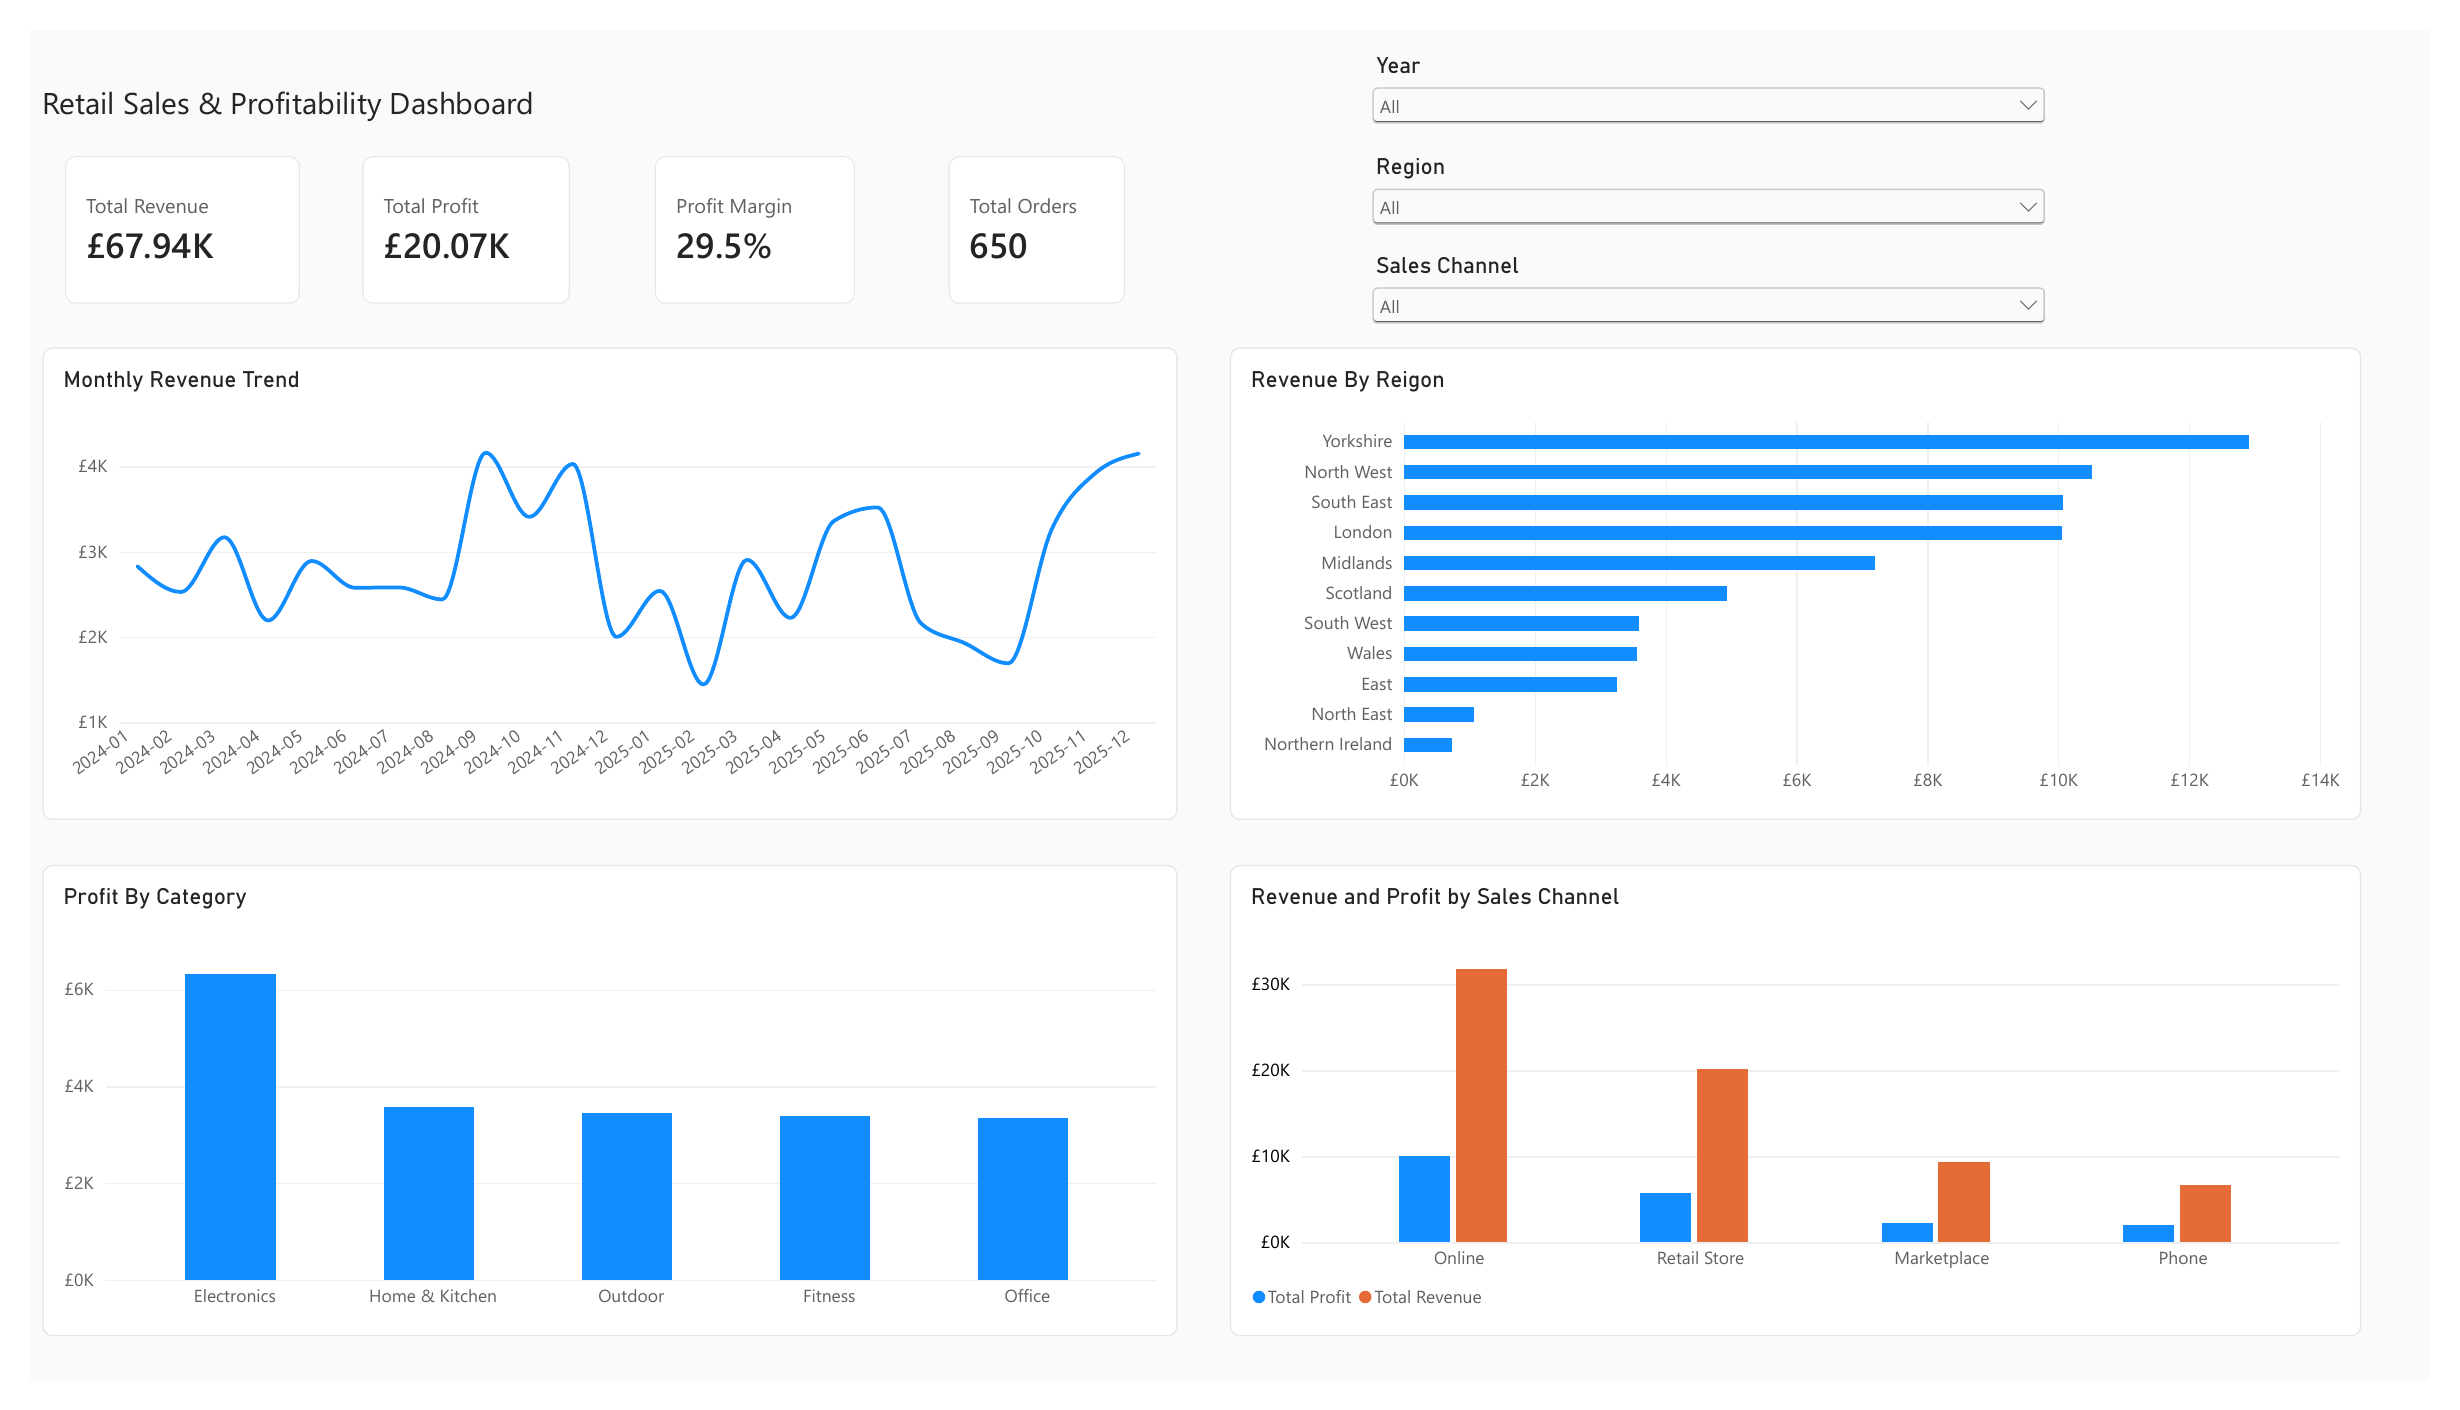

What the dashboard file says about the page in this screenshot:
{"tool":"powerbi","page":{"name":"Overview","canvas":[1920,1080],"ordinal":0},"visuals":[{"type":"textbox","box":[10.2,42.3,431.9,46.7],"z":0},{"type":"cardVisual","fields":{"Data":["Retail Sales.Total Revenue"]},"box":[27.7,100.7,188.2,118.2],"z":1000},{"type":"cardVisual","fields":{"Data":["Retail Sales.Total Profit"]},"box":[265.5,100.7,166.3,118.2],"z":2000},{"type":"cardVisual","fields":{"Data":["Retail Sales.Profit Margin"]},"box":[500.4,100.7,160.5,118.2],"z":3000},{"type":"cardVisual","fields":{"Data":["Retail Sales.Total Orders"]},"box":[735.3,100.7,141.5,118.2],"z":4000},{"type":"lineChart","title":"Monthly Revenue Trend","fields":{"Category":["Calendar.Year Month"],"Y":["Retail Sales.Total Revenue"]},"box":[10.2,253.9,907.5,377.9],"z":5000},{"type":"clusteredBarChart","title":"Revenue By Reigon","fields":{"Category":["Retail Sales.region"],"Y":["Retail Sales.Total Revenue"]},"box":[960,253.9,904.6,377.9],"z":6000},{"type":"clusteredColumnChart","title":"Profit By Category","fields":{"Category":["Retail Sales.category"],"Y":["Retail Sales.Total Profit"]},"box":[10.2,668.2,907.5,376.4],"z":7000},{"type":"clusteredColumnChart","title":"Revenue and Profit by Sales Channel","fields":{"Category":["Retail Sales.sales_channel"],"Y":["Retail Sales.Total Profit","Retail Sales.Total Revenue"]},"box":[960,668.2,904.6,376.4],"z":8000},{"type":"slicer","title":"Year","fields":{"Values":["Calendar.Year"]},"box":[1069.4,17.5,547.1,124],"z":9000},{"type":"slicer","fields":{"Values":["Retail Sales.region"]},"box":[1069.4,99.2,547.1,84.6],"z":10000},{"type":"slicer","fields":{"Values":["Retail Sales.sales_channel"]},"box":[1069.4,178,547.1,78.8],"z":11000}]}

Visuals, with their boxes in screenshot pixels (x1, y1, x2, y2), scaled from the page's 1920x1080 canvas onto the 2460x1410 screenshot:
textbox: bbox=(13, 55, 566, 116)
cardVisual - Retail Sales.Total Revenue: bbox=(35, 131, 277, 286)
cardVisual - Retail Sales.Total Profit: bbox=(340, 131, 553, 286)
cardVisual - Retail Sales.Profit Margin: bbox=(641, 131, 847, 286)
cardVisual - Retail Sales.Total Orders: bbox=(942, 131, 1123, 286)
"Monthly Revenue Trend" lineChart: bbox=(13, 331, 1176, 825)
"Revenue By Reigon" clusteredBarChart: bbox=(1230, 331, 2389, 825)
"Profit By Category" clusteredColumnChart: bbox=(13, 872, 1176, 1364)
"Revenue and Profit by Sales Channel" clusteredColumnChart: bbox=(1230, 872, 2389, 1364)
"Year" slicer: bbox=(1370, 23, 2071, 185)
slicer - Retail Sales.region: bbox=(1370, 130, 2071, 240)
slicer - Retail Sales.sales_channel: bbox=(1370, 232, 2071, 335)
